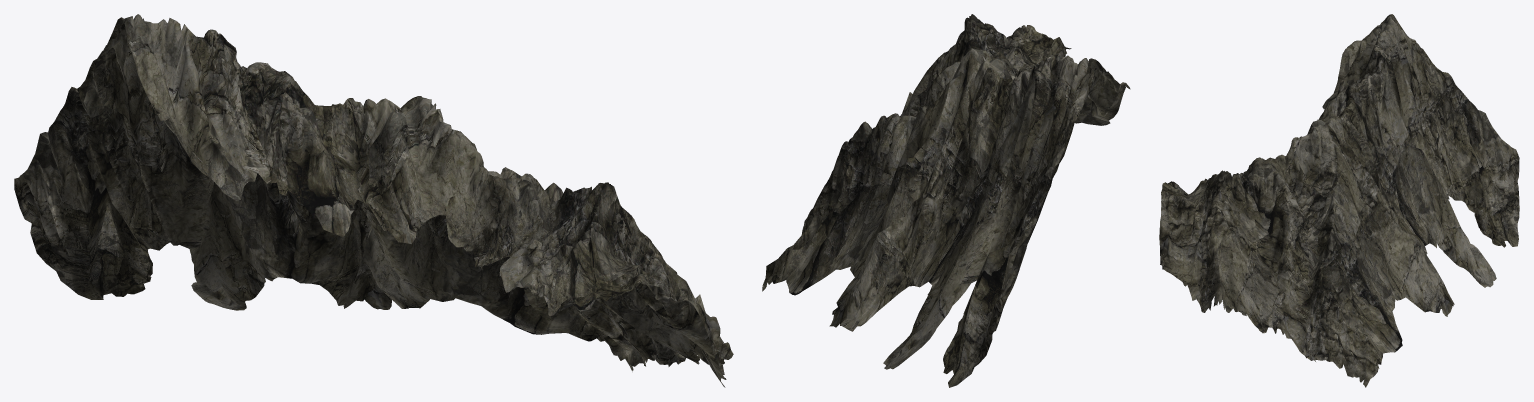
File: detail_mountain_canyon.FBX
The picture shows the model from 3 angles, left to right: view 1: azimuth 30°, elevation 25°; view 2: azimuth 150°, elevation 25°; view 3: azimuth 270°, elevation 25°; orthographic projection. The views are drawn at different scales.
Parts seen in each view (by area): view 1: detail_mountain_canyon; view 2: detail_mountain_canyon; view 3: detail_mountain_canyon.
Part boxes in pixels (<box>): detail_mountain_canyon: <box>14,14,733,387</box>; detail_mountain_canyon: <box>762,14,1130,387</box>; detail_mountain_canyon: <box>1159,14,1519,387</box>.
Bounding box in the file's own units: 268 × 237 × 314.
